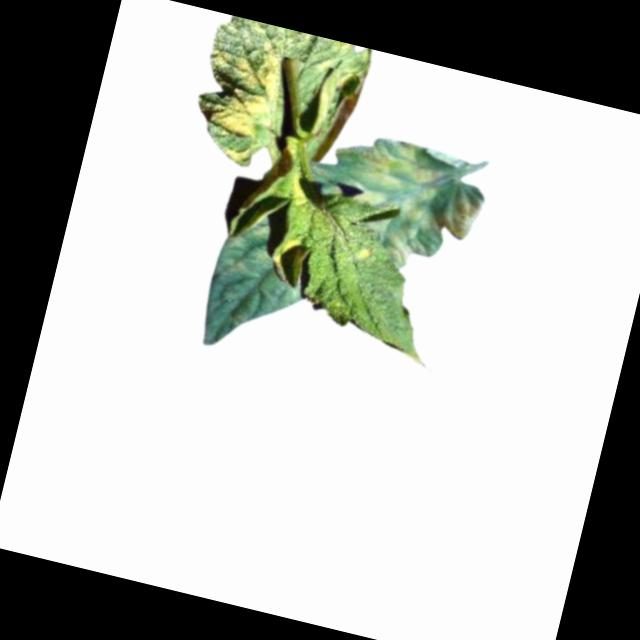Leaf_Mold: (312, 128, 495, 284), (188, 36, 293, 173), (214, 206, 281, 285), (269, 232, 312, 288)
